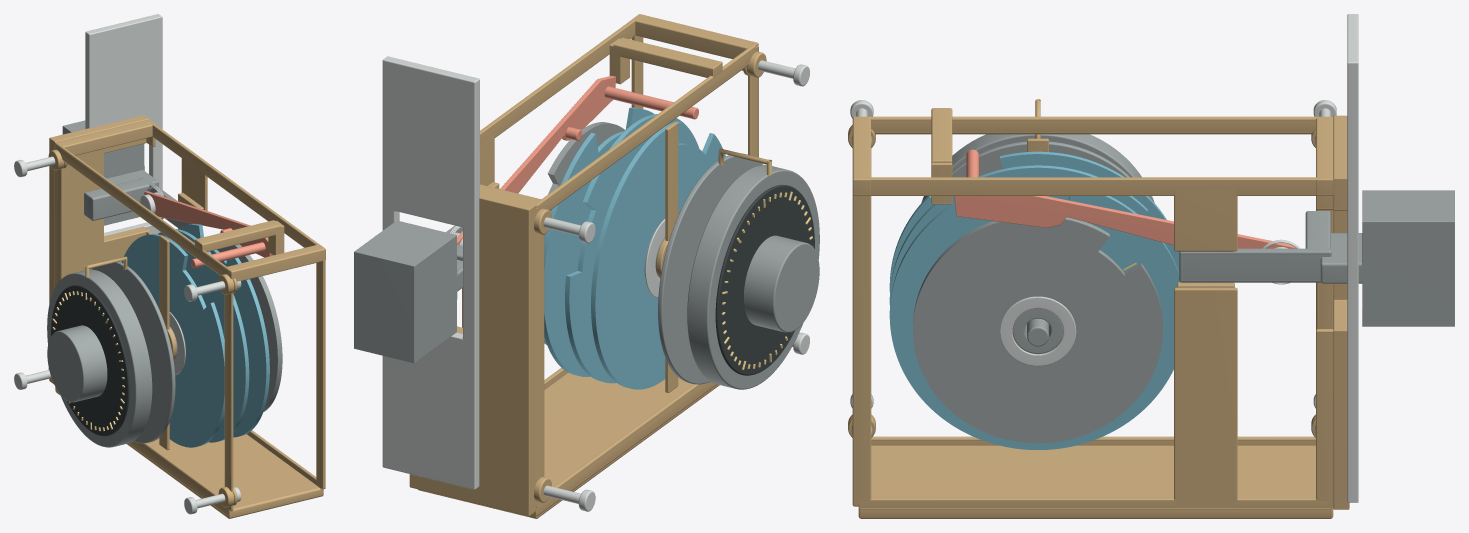
File: combination.glb
3 views of the same model, side by side, from view 1: azimuth 30°, elevation 25°; view 2: azimuth 150°, elevation 25°; view 3: azimuth 270°, elevation 25° (orthographic). The views are drawn at different scales.
Parts seen in each view (by area): view 1: Wheel 1 gated rim (inspection), Cabinet edge forend (inspection), Combination lower case rail (inspection), Combination case bolt-side wall (inspection), Combination dial rim (inspection), Combination dial face (inspection), Fixed dial bezel (inspection), Combination dial grip (inspection), Wheel 3 gated rim (inspection), Wheel 2 gated rim (inspection), Combination mounting plate top (inspection), Combination rear case horizontal frame.001 (inspection) (+17 smaller); view 2: Cabinet edge forend (inspection), Combination case bolt-side wall (inspection), Wheel 1 gated rim (inspection), Tall cabinet bolt head (inspection), Combination lower case rail (inspection), Combination dial rim (inspection), Combination dial face (inspection), Fixed dial bezel (inspection), Wheel 3 gated rim (inspection), Combination dial grip (inspection), Wheel 2 gated rim (inspection), Combination mounting plate top (inspection) (+14 smaller); view 3: Drive cam with nose pocket (inspection), Combination lower case rail (inspection), Bolt guide support web (inspection), Tall cabinet bolt head (inspection), Wheel 3 gated rim (inspection), Combination rear case horizontal frame.001 (inspection), Combination mounting plate top (inspection), Combination rear case upright (inspection), Cabinet edge forend (inspection), Fence lever body (inspection), Combination case bolt-side wall (inspection), Bolt tail (inspection) (+14 smaller).
Boxes of the visible parts, x1,y1,x2,y2 form: Wheel 1 gated rim (inspection): (121,234,224,447); Cabinet edge forend (inspection): (85,14,162,236); Combination lower case rail (inspection): (55,390,323,518); Combination case bolt-side wall (inspection): (49,115,149,383); Combination dial rim (inspection): (47,269,152,447); Combination dial face (inspection): (51,285,129,436); Fixed dial bezel (inspection): (92,260,175,443); Combination dial grip (inspection): (47,325,107,402); Wheel 3 gated rim (inspection): (178,224,269,437); Wheel 2 gated rim (inspection): (158,229,249,442); Combination mounting plate top (inspection): (55,143,228,275); Combination rear case horizontal frame.001 (inspection): (151,123,321,247); Cabinet edge forend (inspection): (382,56,479,489); Combination case bolt-side wall (inspection): (409,191,536,516); Wheel 1 gated rim (inspection): (591,121,725,389); Tall cabinet bolt head (inspection): (354,220,462,363); Combination lower case rail (inspection): (418,372,719,518); Combination dial rim (inspection): (687,165,819,389); Combination dial face (inspection): (715,185,814,375); Fixed dial bezel (inspection): (658,153,763,384); Wheel 3 gated rim (inspection): (544,107,654,376); Combination dial grip (inspection): (743,235,819,332); Wheel 2 gated rim (inspection): (565,114,699,383); Combination mounting plate top (inspection): (536,45,755,210); Drive cam with nose pocket (inspection): (913,217,1162,443); Combination lower case rail (inspection): (858,445,1333,518); Bolt guide support web (inspection): (1174,189,1237,507); Tall cabinet bolt head (inspection): (1320,190,1454,326); Wheel 3 gated rim (inspection): (889,196,1180,449); Combination rear case horizontal frame.001 (inspection): (860,177,1325,195); Combination mounting plate top (inspection): (869,116,1317,134); Combination rear case upright (inspection): (852,195,871,506); Cabinet edge forend (inspection): (1347,14,1358,502); Fence lever body (inspection): (954,196,1296,248); Combination case bolt-side wall (inspection): (1333,115,1349,509); Bolt tail (inspection): (1179,248,1331,282).
Size of the model in its own units: 2.87 by 4.47 by 5.24.
